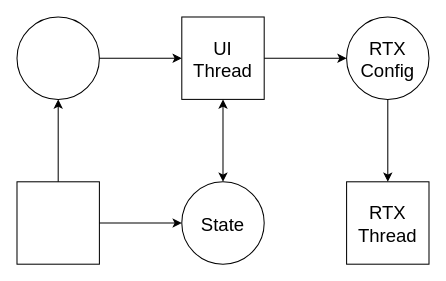
Image size: 446x281. Some labels were removed from this diagram. Here are the shapes that lost their labels. From the top down, the box of each, then its label:
(16, 16, 99, 99): Event Queue
(16, 181, 99, 264): DEV Thread
